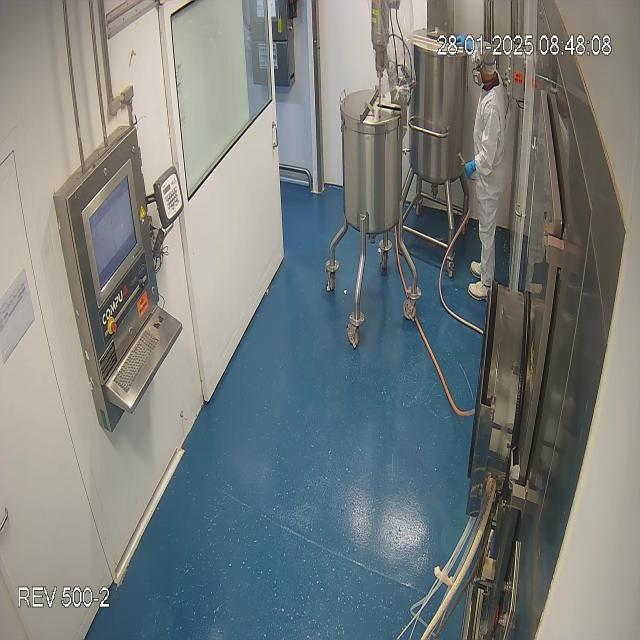bota: (467, 260, 495, 303)
pessoa: (461, 42, 519, 307)
touca: (470, 39, 500, 78)
